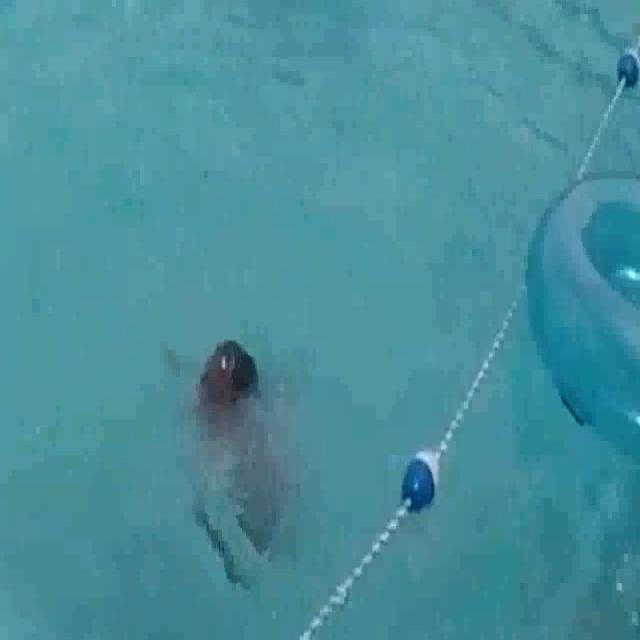Out of Water: (155, 318, 299, 548)
